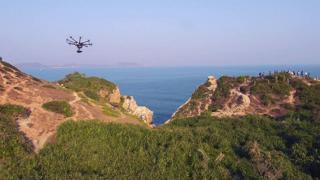UAV: (66, 36, 92, 53)
